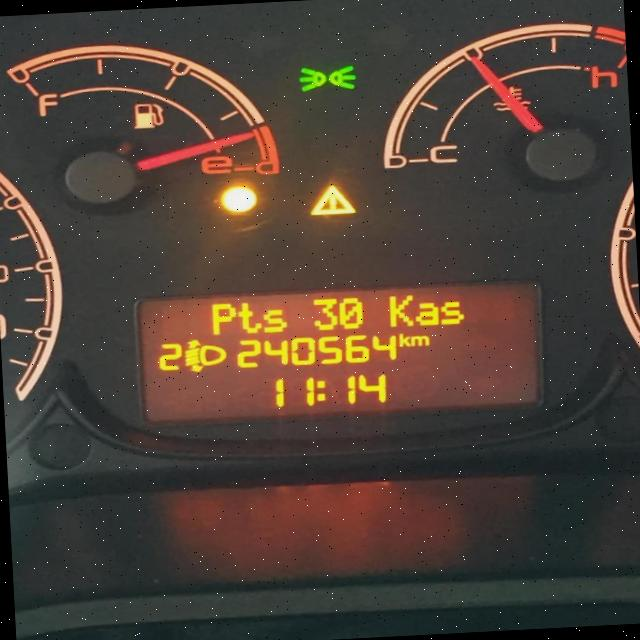odometer: (126, 270, 554, 435)
